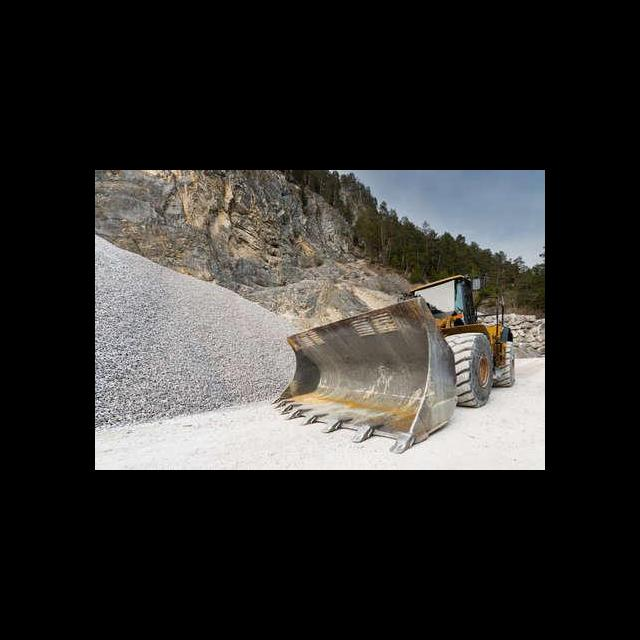wheel loader: (277, 274, 517, 454)
